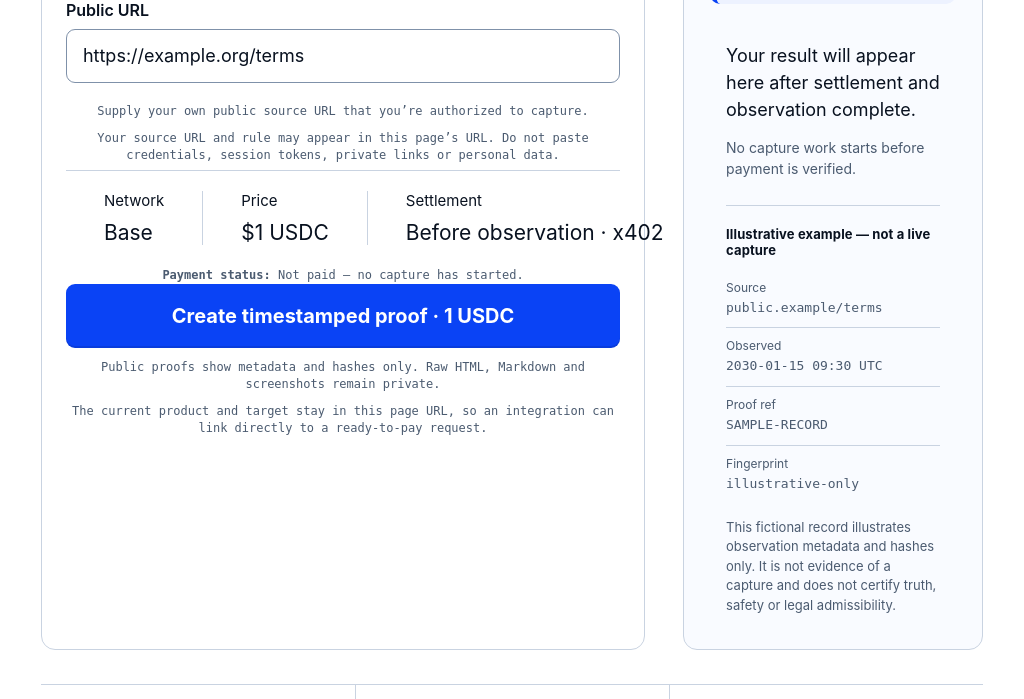
Base app incomplete paid requests › handles non-JSON HTTP 502 without claiming a proof
The image size is (1024, 699).
(page scrolled)
Click the button "Create timestamped proof · 1 USDC": click(343, 316) [66,284,620,348]
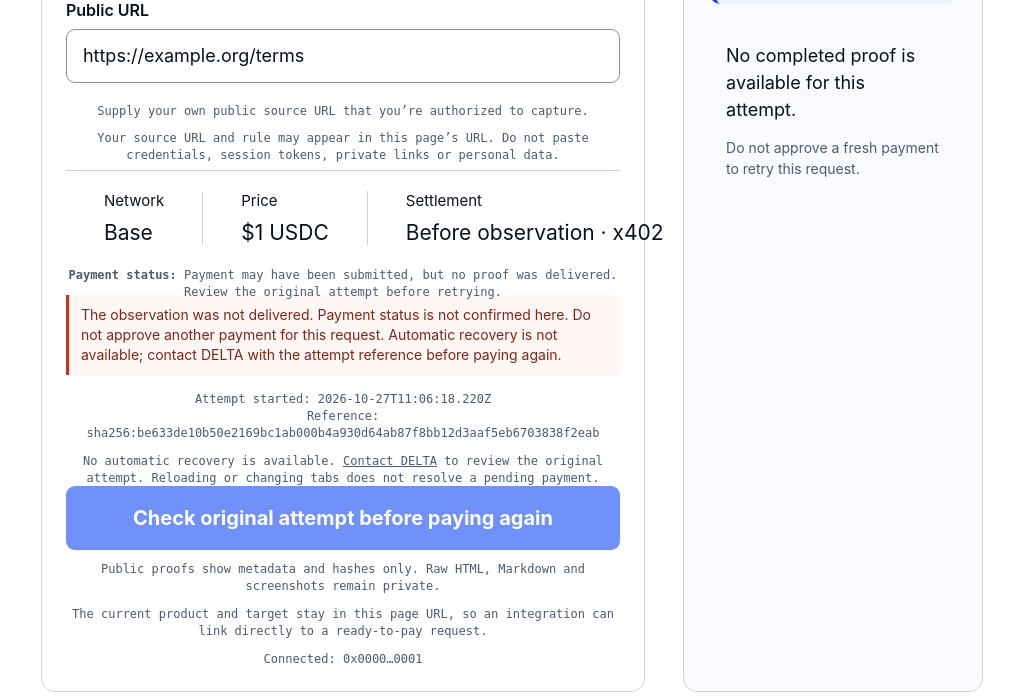
Check: the element with class "result-status" no longer shows "READY"
Check: the element with class "sample-proof" is gone
Check: the button "Check original attempt before paying again" is disabled, box [66,486,620,550]
